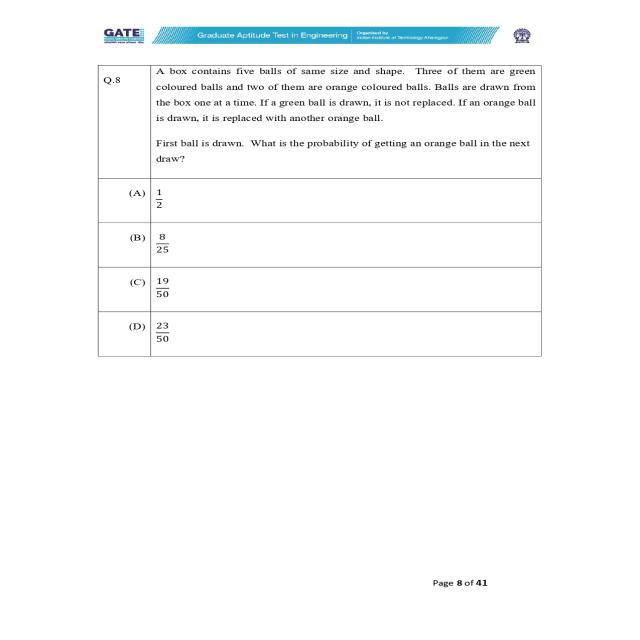Answer_Block: (97, 179, 542, 356)
Question_Answer_Block: (98, 65, 542, 356)
Question_Block: (97, 65, 543, 179)
Question_Paper_Area: (98, 65, 541, 356)
